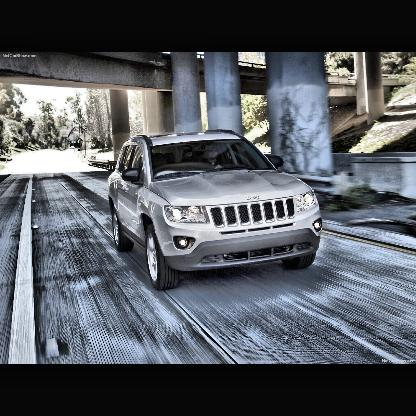Jeep Compass SUV 2012: (110, 129, 323, 293)
